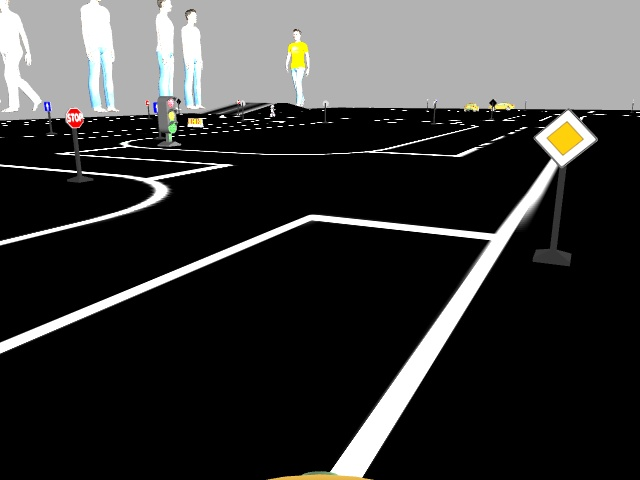ClosedRoadStand: (188, 116, 203, 127)
Priority: (542, 111, 590, 166)
Stop: (62, 108, 84, 128)
TrafficLight: (158, 95, 177, 136)
